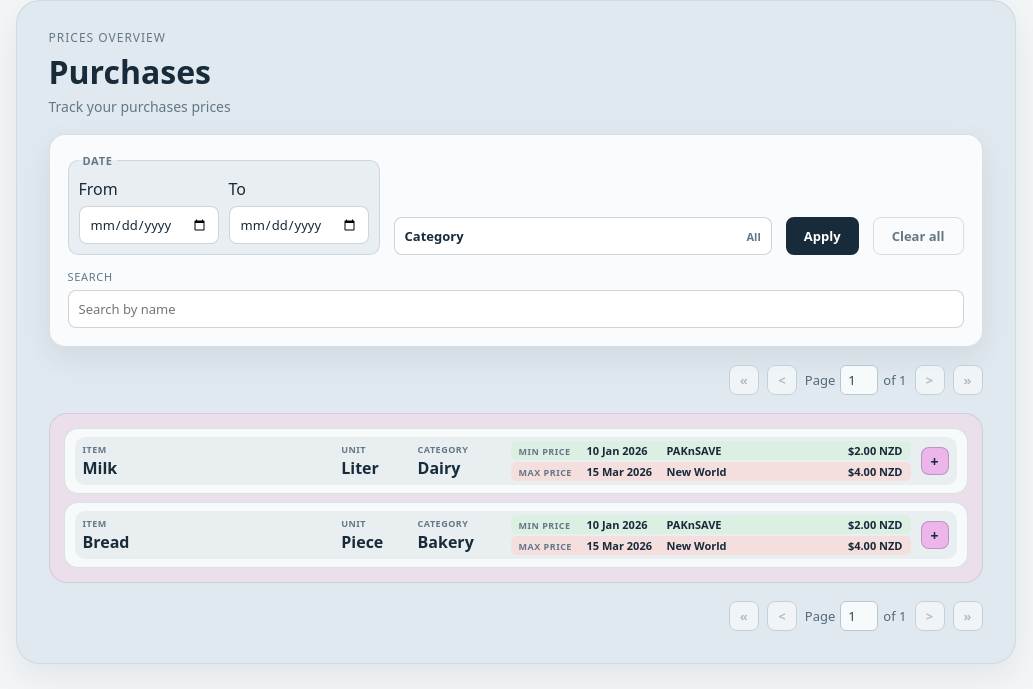
Scenario: Purchases › sends selected filters on Apply and resets them on clear
This screenshot has width=1033, height=689.
Expected: the text "Milk" is shown, [82,457,117,479]
Type "milk" into the search field labelled "Search" at (516, 309), box [68,290,964,328]
Type "2026-01-01" into the date field labelled "From" at (148, 225), box [78,206,218,244]
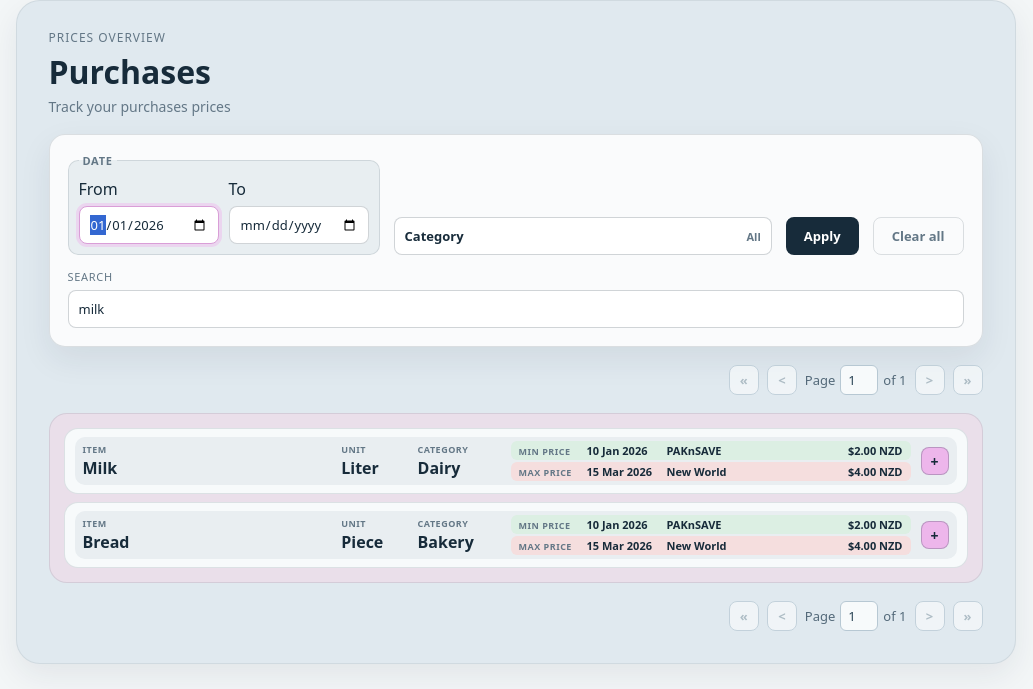
Type "2026-02-01" into the date field labelled "To" at (298, 225), box [228,206,368,244]
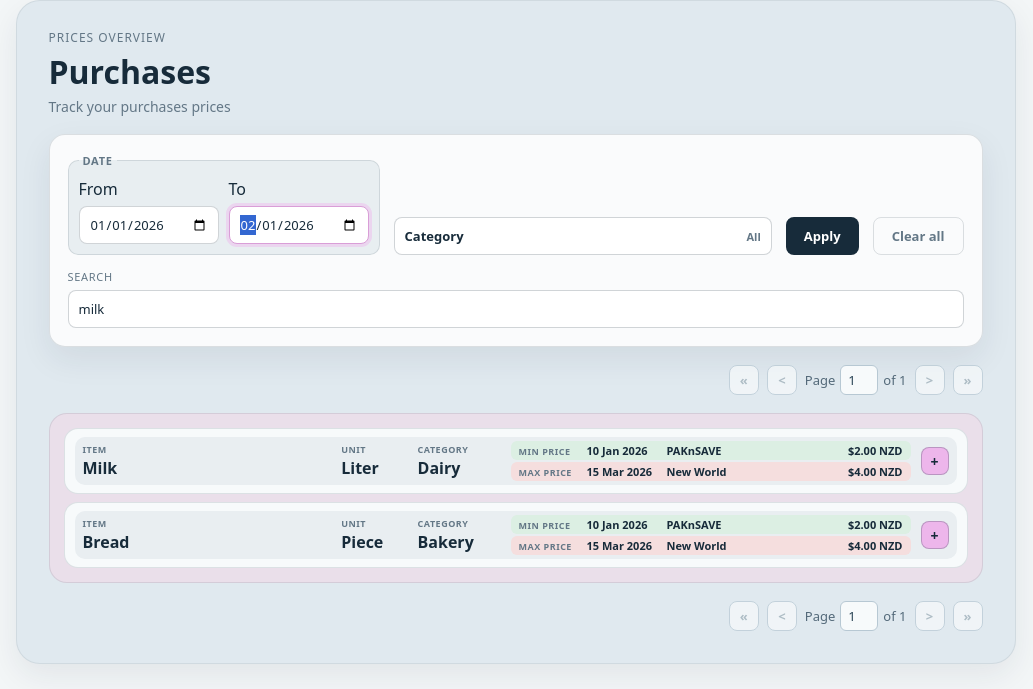
Click the button "Category All" at (434, 236), box [394,217,772,255]
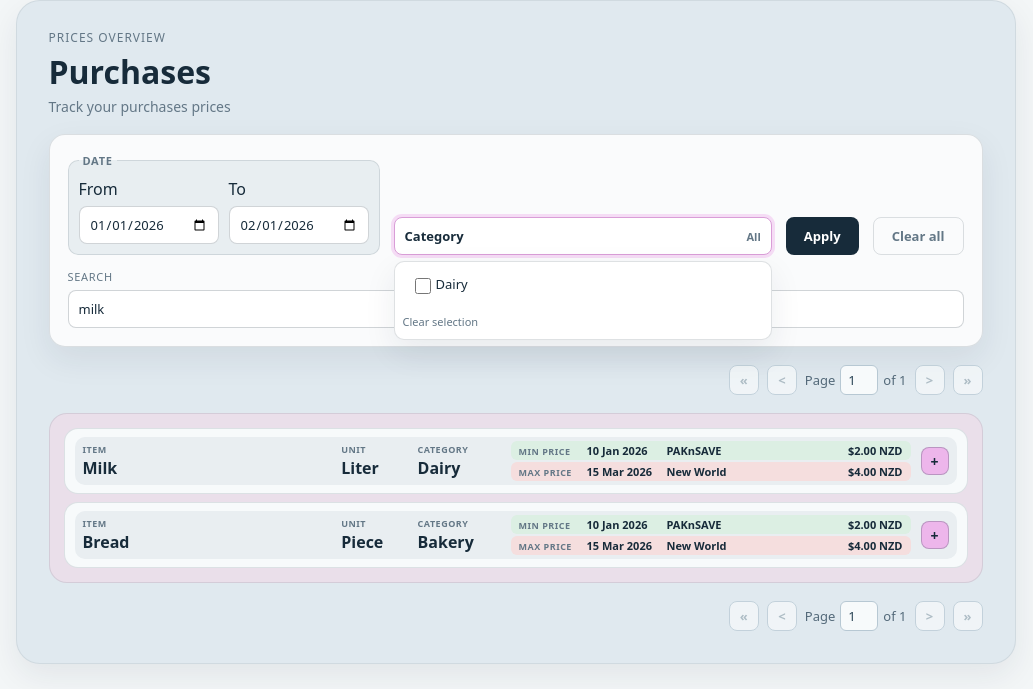
Click the checkbox labelled "Dairy" at (422, 286), box [414,278,430,294]
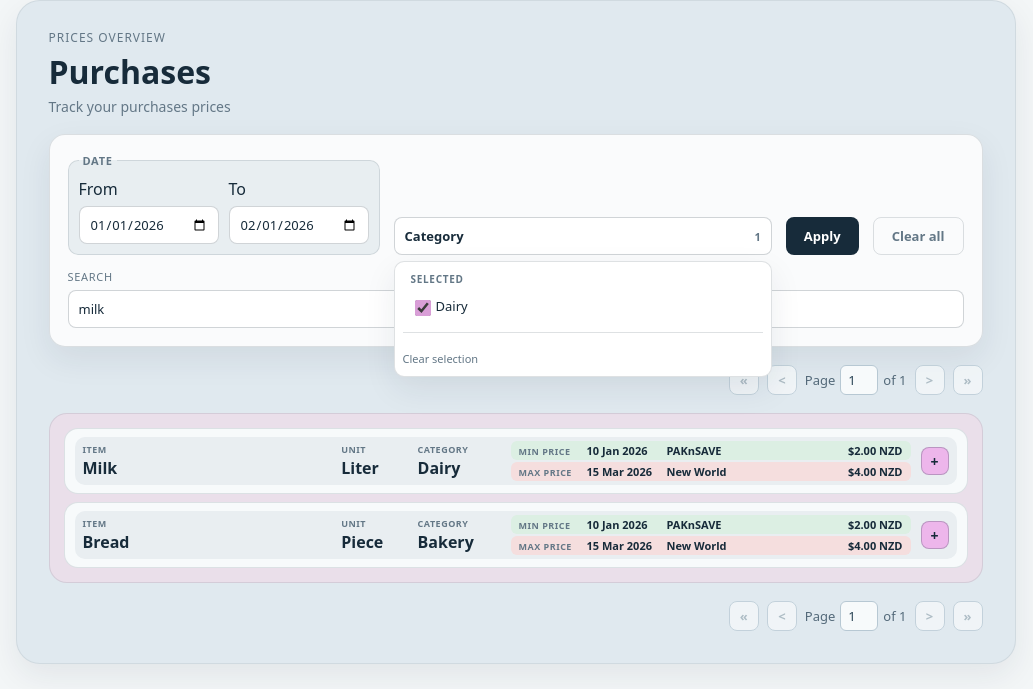
Click the button "Apply" at (822, 236), box [786,217,859,255]
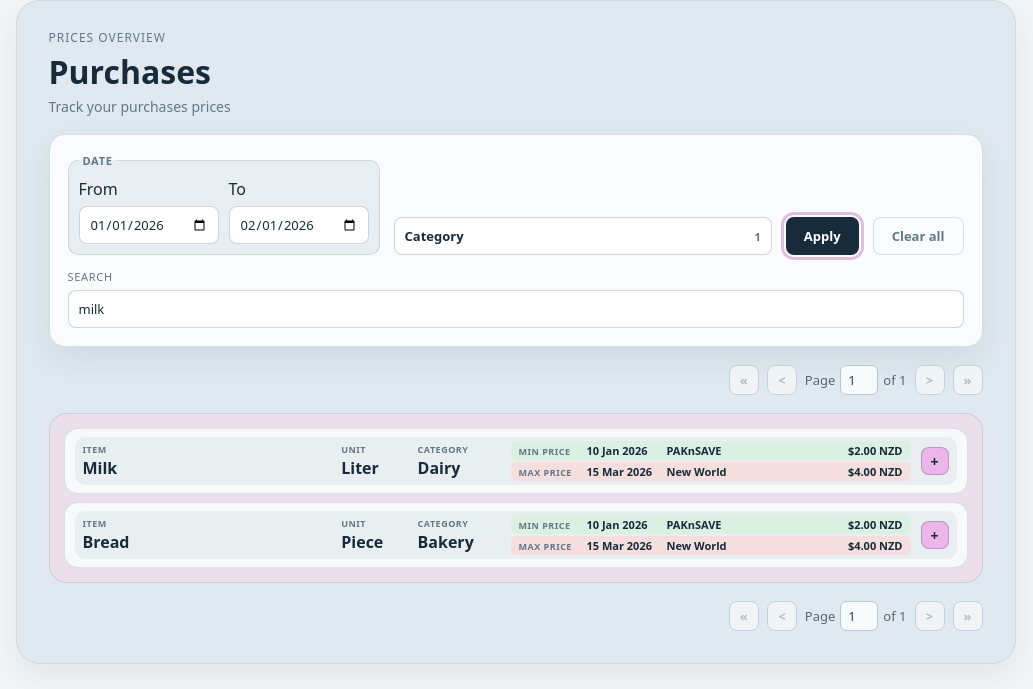
Click the button "Clear all" at (918, 236), box [873,217,964,255]
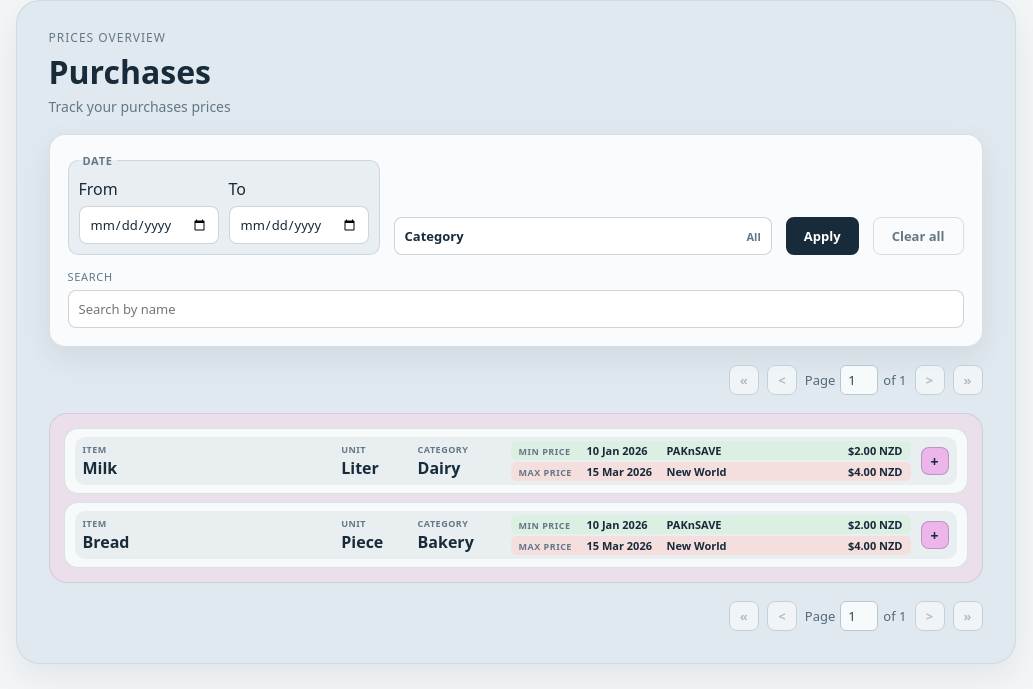
Expected: the search field labelled "Search" is empty, [68,290,964,328]
